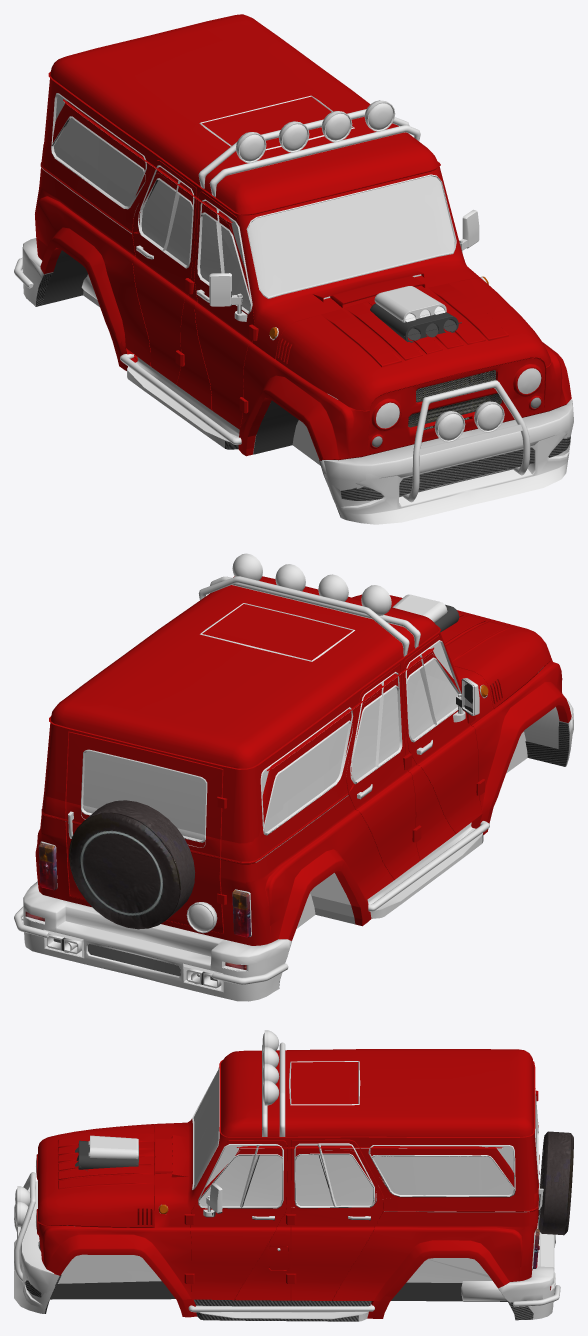
Rendered from Destroyer.fbx.
3 views of the same model, one above another, from view 1: azimuth 30°, elevation 25°; view 2: azimuth 150°, elevation 25°; view 3: azimuth 270°, elevation 25° (orthographic). The views are drawn at different scales.
Visible parts, largest first — view 1: kit01_body, kit02_body, window (×3), kit01_object, chrome (×2), body, kit02_objects, kit03_objects, kit04_objects, lights_glass (×2), side_carbon, kit04_body (+2 smaller); view 2: kit01_body, kit02_body, body, window (×3), spare_wheel, kit03_objects, kit04_body, chrome (×3), kit02_objects, kit01_object, standart_objects, stop signal (+3 smaller); view 3: kit01_body, body, window (×2), kit01_object, chrome (×3), kit04_objects, spare_wheel, kit03_body, standart_objects, kit02_objects, kit04_body, side_carbon (+2 smaller).
Boxes of the visible parts, x1,y1,x2,y2 form: kit01_body: [44, 16, 571, 460]; kit02_body: [35, 99, 545, 459]; window (×3): [53, 94, 454, 311]; kit01_object: [24, 94, 573, 490]; chrome (×2): [14, 100, 530, 502]; body: [44, 14, 550, 430]; kit02_objects: [22, 116, 569, 523]; kit03_objects: [22, 117, 570, 524]; kit04_objects: [43, 118, 476, 454]; lights_glass (×2): [239, 103, 541, 440]; side_carbon: [35, 273, 570, 517]; kit04_body: [36, 100, 547, 460]; kit01_body: [60, 576, 571, 903]; kit02_body: [35, 647, 571, 943]; body: [35, 600, 550, 904]; window (×3): [83, 642, 458, 839]; spare_wheel: [69, 800, 195, 929]; kit03_objects: [23, 658, 572, 1001]; kit04_body: [35, 649, 571, 945]; chrome (×3): [14, 553, 489, 988]; kit02_objects: [23, 657, 572, 990]; kit01_object: [24, 555, 573, 963]; standart_objects: [23, 641, 572, 971]; stop signal: [25, 842, 250, 970]; kit01_body: [36, 1049, 537, 1300]; body: [54, 1049, 538, 1300]; window (×2): [193, 1069, 536, 1206]; kit01_object: [20, 1030, 552, 1302]; chrome (×3): [14, 1030, 560, 1312]; kit04_objects: [50, 1132, 555, 1301]; spare_wheel: [538, 1131, 573, 1235]; kit03_body: [134, 1145, 535, 1318]; standart_objects: [41, 1089, 553, 1302]; kit02_objects: [14, 1131, 555, 1319]; kit04_body: [37, 1147, 538, 1318]; side_carbon: [25, 1275, 533, 1321].
Bounding box in the file's own units: 1.8 × 1.76 × 4.09.
